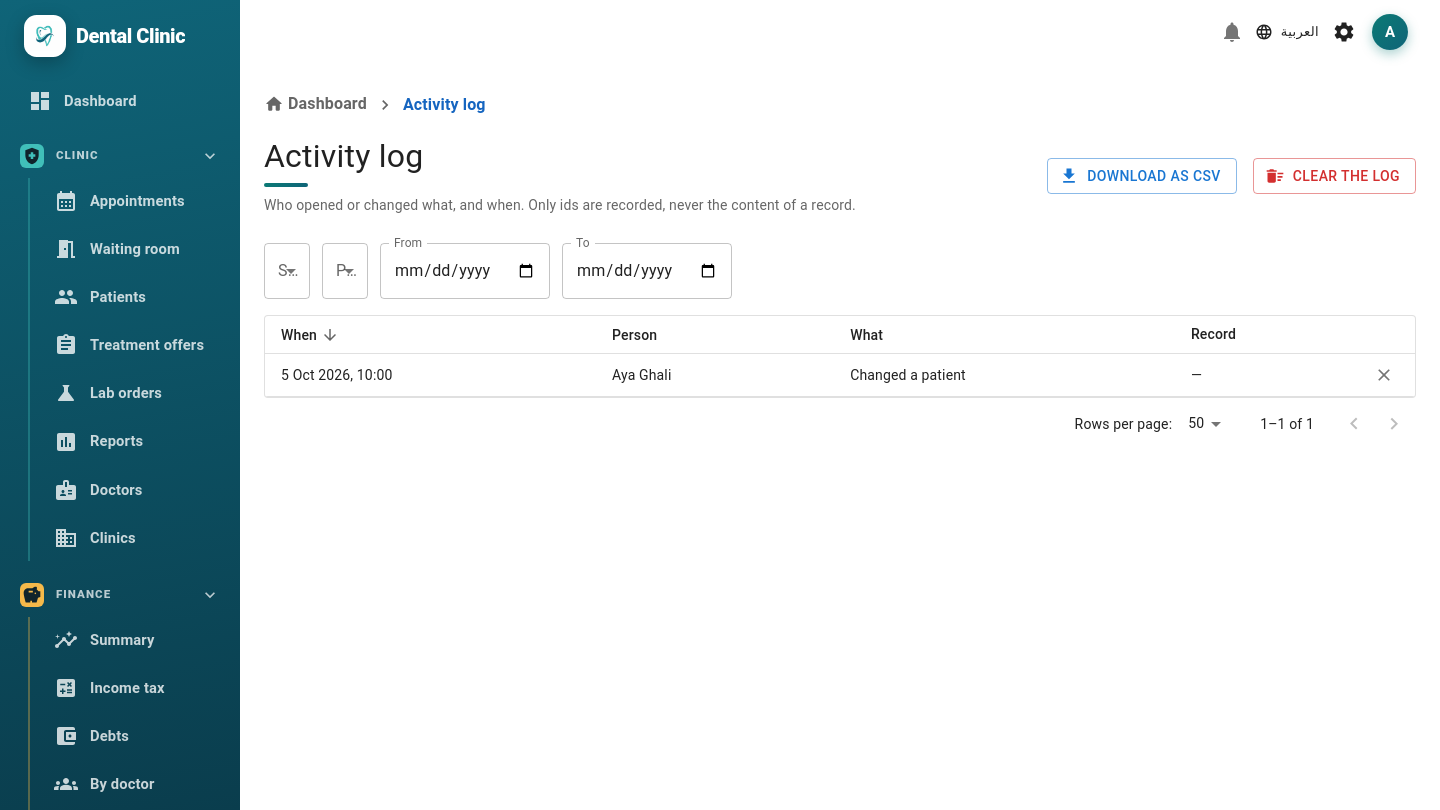
Test: confirmations after a change › says so after a successful delete
Click the button named "Delete this entry". click: (1384, 375)
box: 1369,360 -> 1399,390
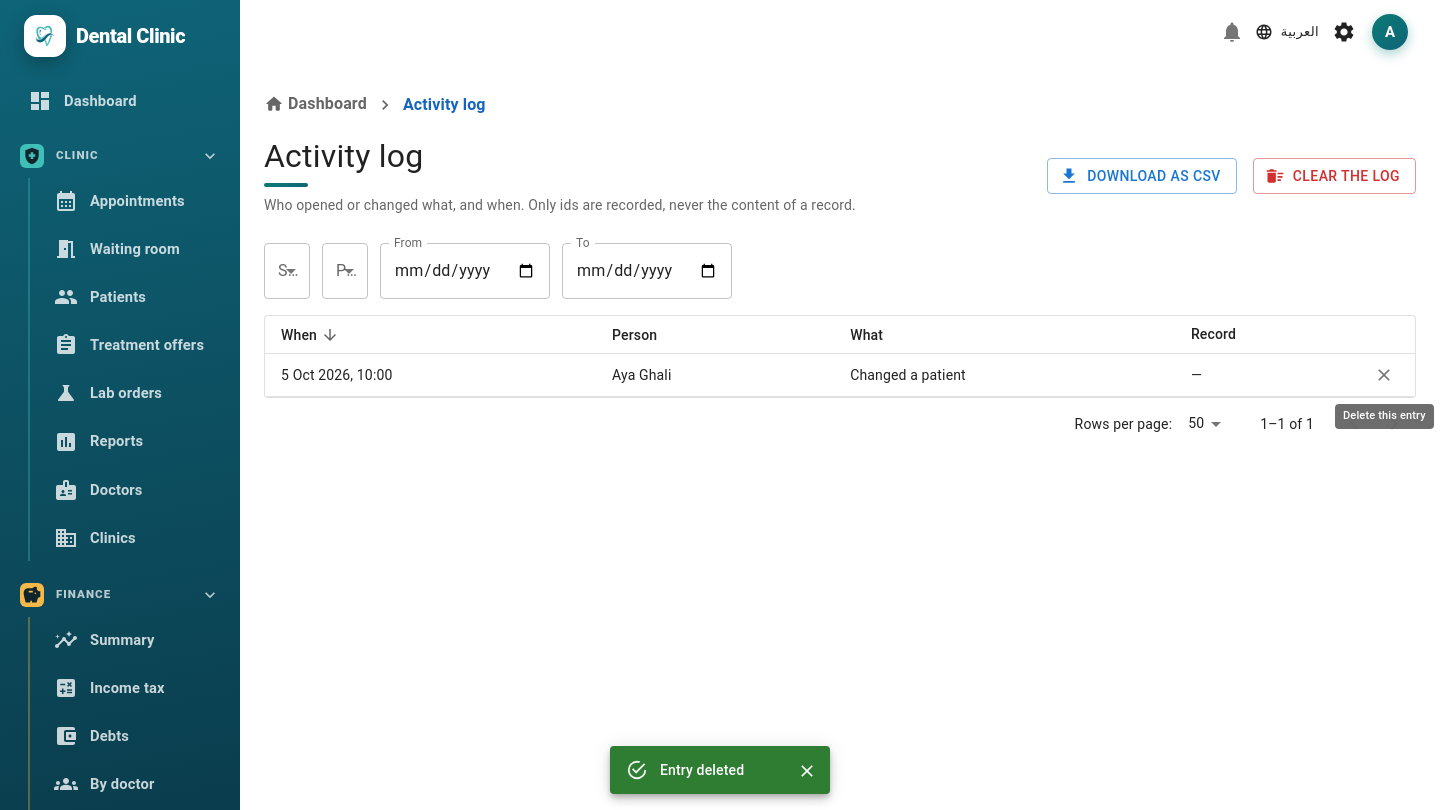
Expected: the text "Entry deleted" is shown, 660,762 -> 744,778
